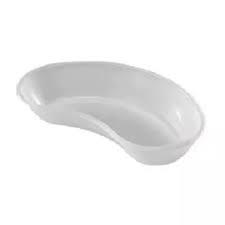Kidney Tray: (18, 56, 208, 166)
